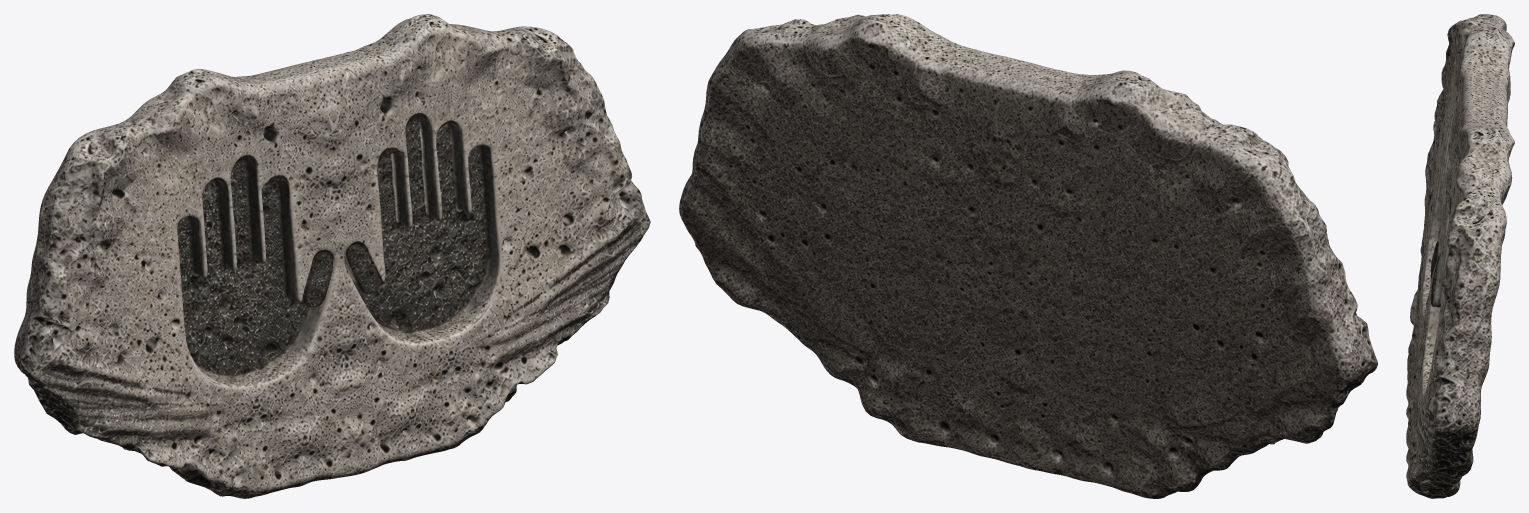
The model's file is hands_joined.glb.
The picture shows the model from 3 angles, left to right: view 1: azimuth 30°, elevation 25°; view 2: azimuth 150°, elevation 25°; view 3: azimuth 270°, elevation 25°; orthographic projection. The views are drawn at different scales.
Visible parts, largest first — view 1: tripo_node_7757bf03; view 2: tripo_node_7757bf03; view 3: tripo_node_7757bf03.
Boxes of the visible parts, x1,y1,x2,y2 form: tripo_node_7757bf03: [14, 14, 650, 498]; tripo_node_7757bf03: [679, 14, 1377, 498]; tripo_node_7757bf03: [1406, 14, 1514, 498].
Size of the model in its own units: 98.35 by 60.58 by 16.21.
1 material, 1 textured.
